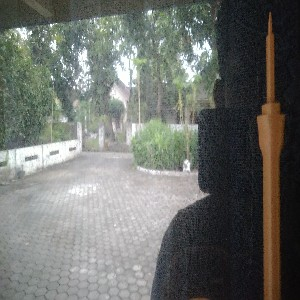solder: (256, 10, 287, 300)
